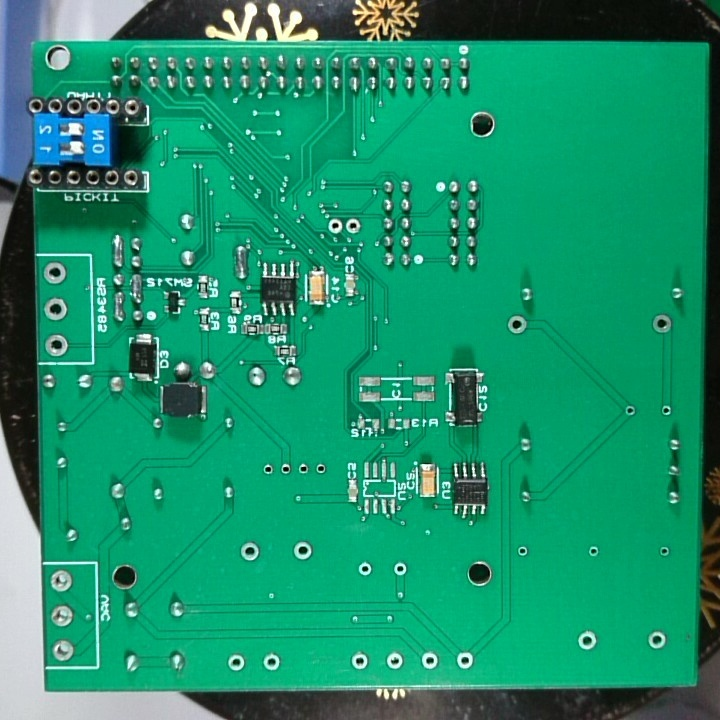F: (48, 602, 77, 629), (42, 295, 68, 323), (40, 260, 68, 286), (48, 638, 77, 663), (42, 333, 71, 358), (47, 568, 75, 593), (645, 627, 668, 655), (505, 312, 529, 338), (574, 629, 600, 653), (649, 311, 674, 335), (291, 539, 315, 564), (238, 539, 262, 563), (225, 652, 248, 676), (453, 648, 475, 673), (382, 649, 405, 672), (349, 648, 370, 672), (418, 649, 440, 671), (260, 652, 282, 673), (355, 558, 375, 580), (344, 213, 362, 237), (325, 215, 345, 235), (391, 559, 408, 581), (657, 400, 675, 419), (260, 460, 277, 479), (622, 402, 639, 420), (514, 543, 532, 560), (311, 460, 328, 477), (279, 460, 294, 479), (295, 461, 311, 477), (585, 543, 600, 560), (657, 543, 671, 559)
P: (229, 243, 250, 281), (109, 232, 125, 269), (110, 289, 126, 323), (129, 271, 144, 305)
